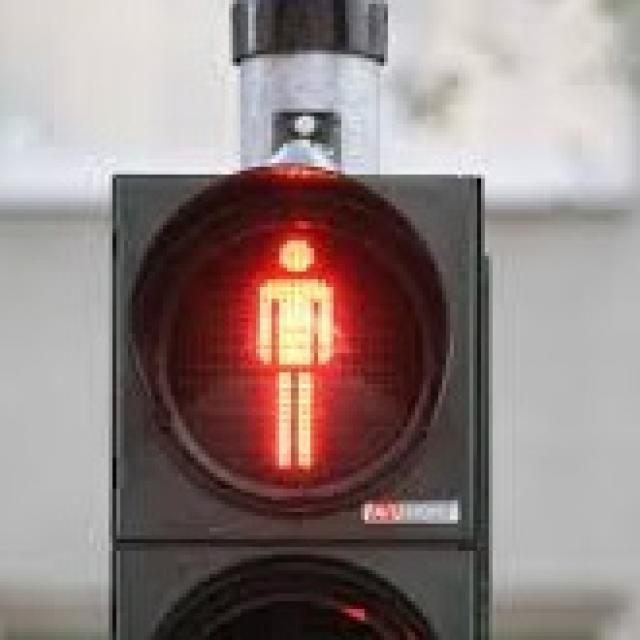red_light: (206, 206, 380, 474)
